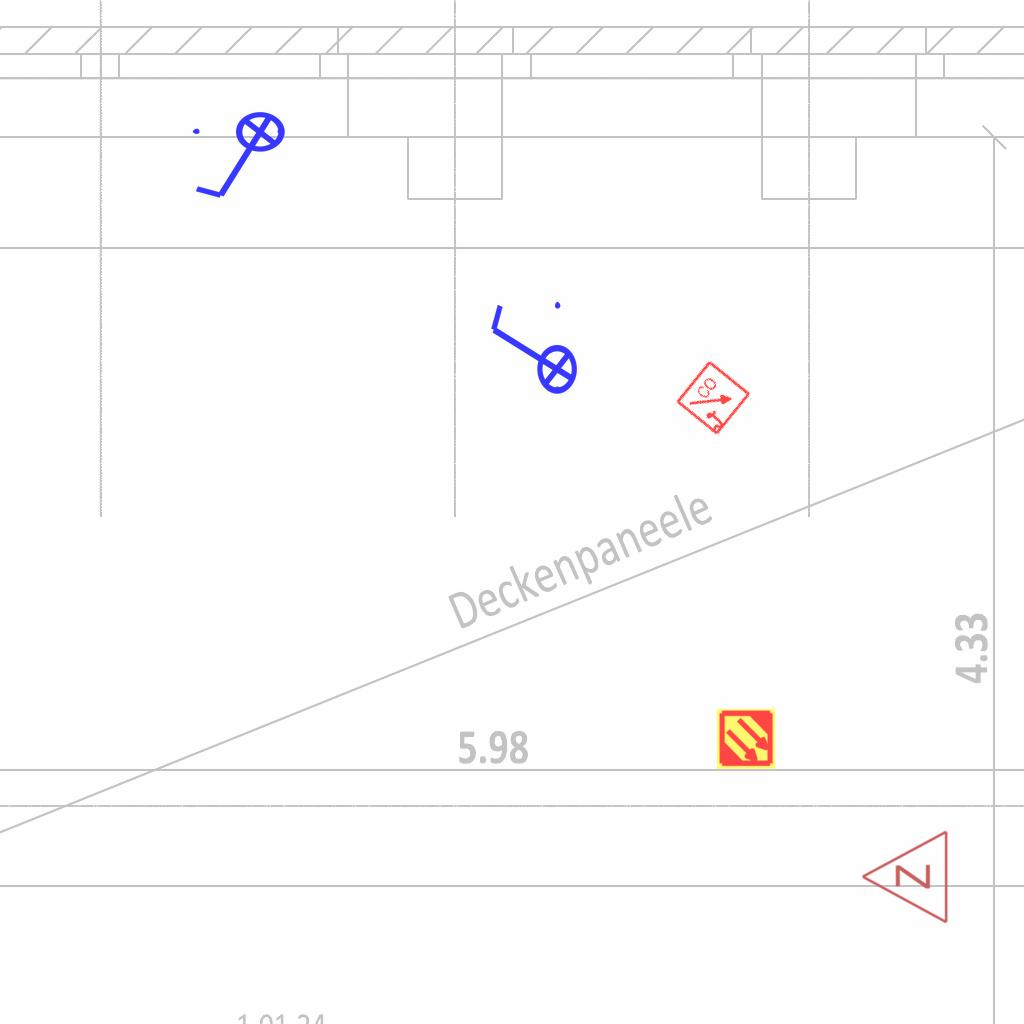ASR_Ansaugrauchmelder: (715, 708, 777, 770)
Ausschalter_beleuchtet: (187, 110, 299, 206), (483, 296, 579, 408)
ROA_Rauchmelder_optisch_mit_Signalgeber_(Sockelsirene): (674, 358, 754, 438)
Zimmersignalleuchte: (855, 829, 955, 927)
